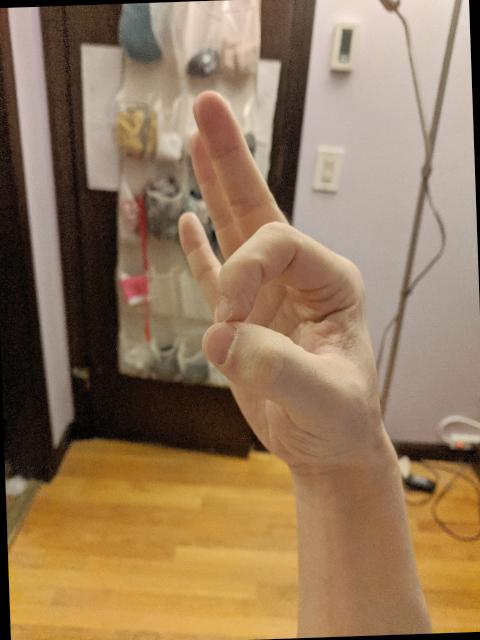F: (166, 80, 394, 488)
